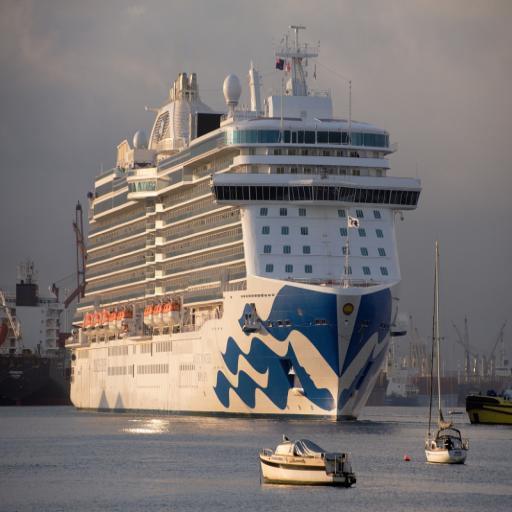cruises: (64, 25, 427, 435)
